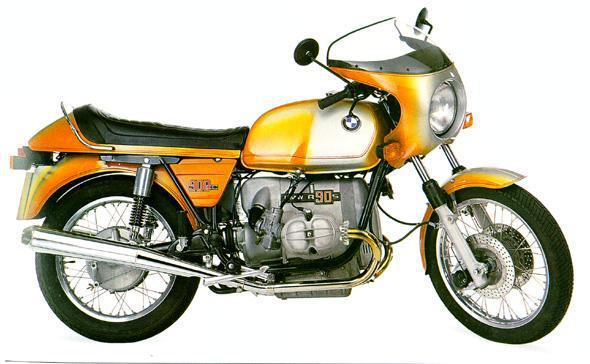Motorcycle: (0, 3, 589, 358)
